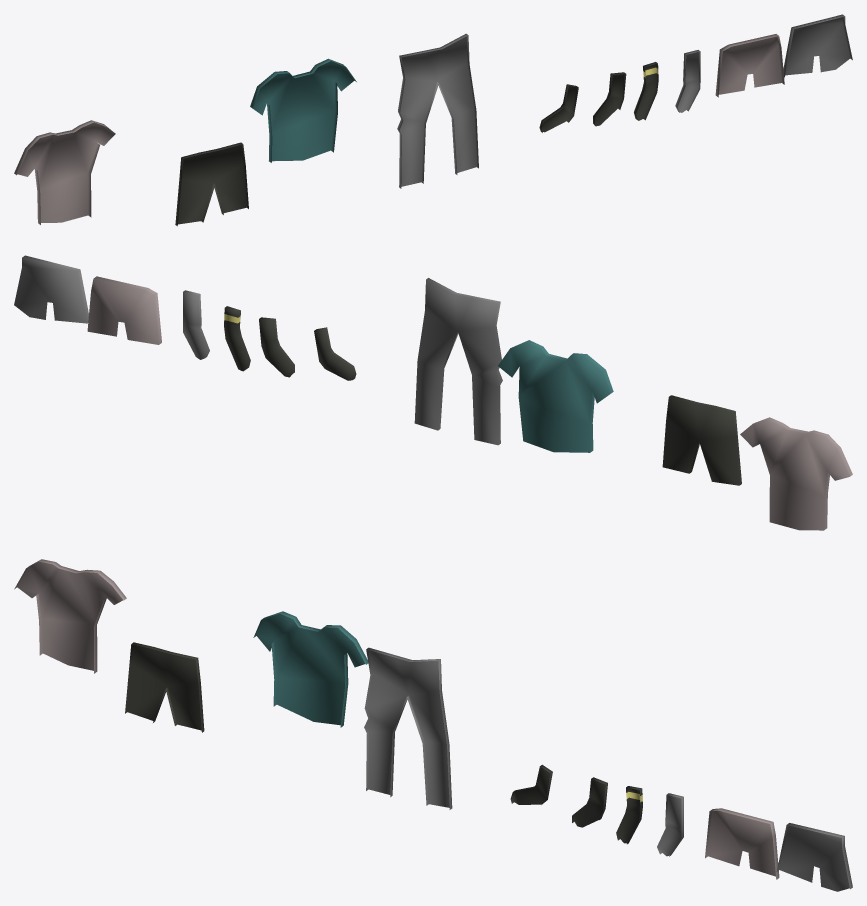
The model's file is underwear_01.fbx.
3 views of the same model, one above another, from view 1: azimuth 30°, elevation 25°; view 2: azimuth 150°, elevation 25°; view 3: azimuth 330°, elevation 25° (orthographic). The views are drawn at different scales.
Parts seen in each view (by area): view 1: underwear_02, underwear_01, underwear_10, underwear_09, underwear_07, underwear_08, underwear_06, underwear_04, underwear_05, underwear_03; view 2: underwear_02, underwear_01, underwear_10, underwear_09, underwear_07, underwear_08, underwear_06, underwear_04, underwear_03, underwear_05; view 3: underwear_02, underwear_01, underwear_10, underwear_09, underwear_07, underwear_08, underwear_06, underwear_04, underwear_05, underwear_03.
Part boxes in pixels (bbox=[...]): underwear_02: bbox=[397, 33, 478, 188]; underwear_01: bbox=[250, 58, 356, 162]; underwear_10: bbox=[14, 120, 115, 224]; underwear_09: bbox=[175, 142, 248, 226]; underwear_07: bbox=[715, 34, 784, 97]; underwear_08: bbox=[783, 14, 852, 77]; underwear_06: bbox=[675, 50, 700, 112]; underwear_04: bbox=[593, 72, 626, 126]; underwear_05: bbox=[634, 62, 658, 120]; underwear_03: bbox=[539, 84, 578, 132]; underwear_02: bbox=[414, 278, 502, 445]; underwear_01: bbox=[498, 340, 613, 452]; underwear_10: bbox=[740, 417, 852, 530]; underwear_09: bbox=[662, 395, 741, 485]; underwear_07: bbox=[87, 276, 161, 344]; underwear_08: bbox=[14, 255, 88, 323]; underwear_06: bbox=[183, 290, 209, 359]; underwear_04: bbox=[259, 317, 294, 377]; underwear_03: bbox=[314, 327, 356, 380]; underwear_05: bbox=[224, 306, 250, 371]; underwear_02: bbox=[364, 647, 452, 809]; underwear_01: bbox=[253, 611, 368, 727]; underwear_10: bbox=[14, 559, 126, 673]; underwear_09: bbox=[125, 642, 204, 732]; underwear_07: bbox=[705, 808, 779, 879]; underwear_08: bbox=[776, 823, 852, 891]; underwear_06: bbox=[657, 793, 683, 856]; underwear_04: bbox=[572, 777, 607, 827]; underwear_05: bbox=[616, 786, 642, 844]; underwear_03: bbox=[510, 764, 552, 804].
Bounding box in the file's own units: 20.3 × 3.32 × 1.53.
